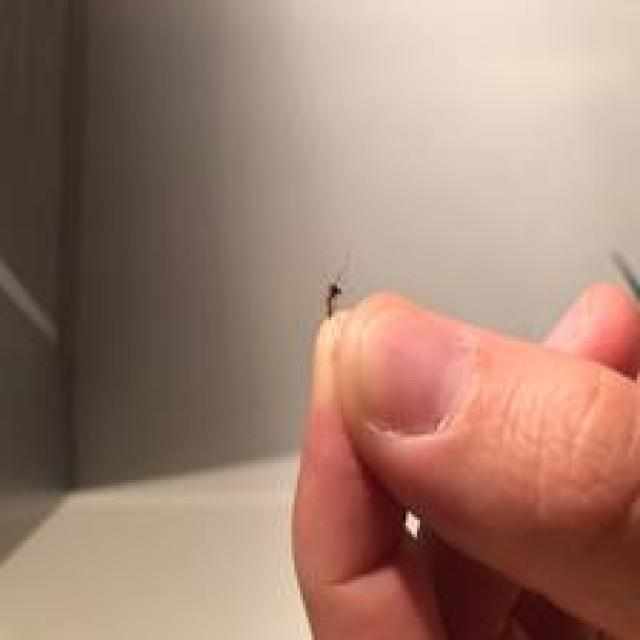Culex: (320, 251, 351, 320)
